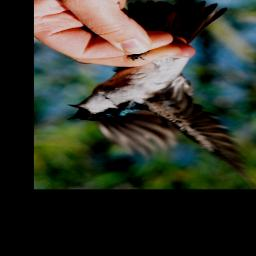Swallow: (64, 0, 256, 187)
